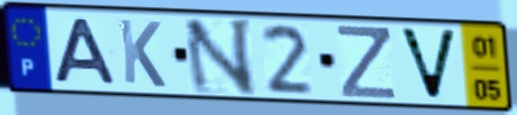2: (257, 22, 316, 96)
A: (50, 16, 120, 87)
K: (116, 16, 169, 90)
N: (180, 16, 258, 97)
V: (395, 24, 461, 103)
Z: (334, 22, 399, 101)
